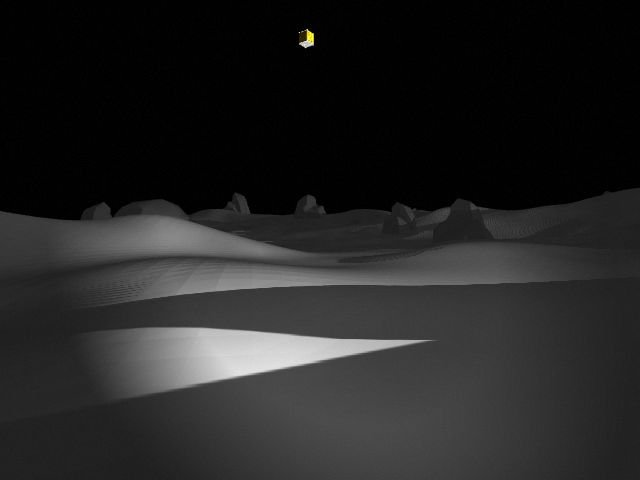cubesat: (290, 27, 317, 49)
